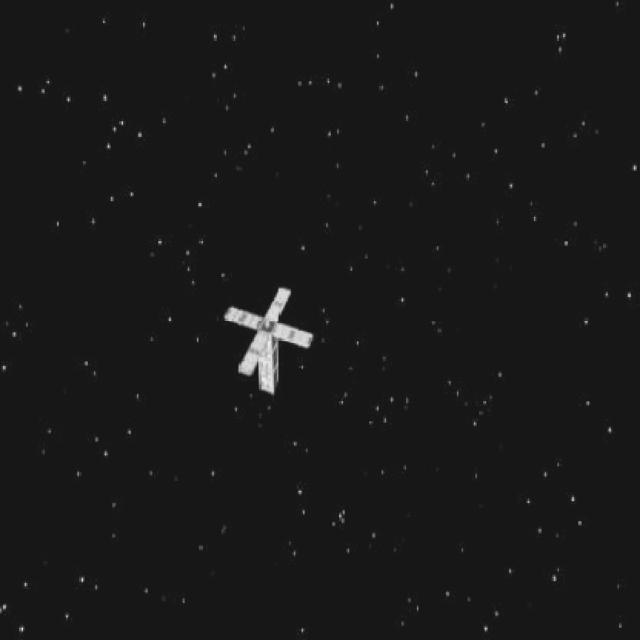satellite: (200, 279, 318, 413)
